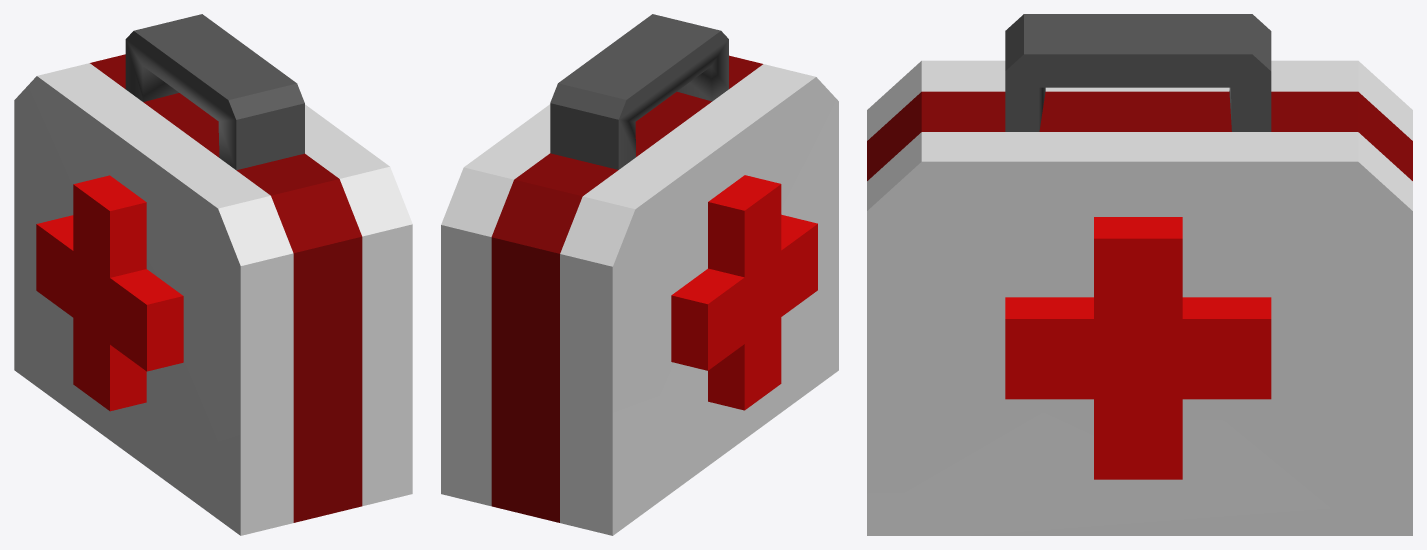
File: medKit.fbx
3 renders of one model, left to right at view 1: azimuth 30°, elevation 25°; view 2: azimuth 150°, elevation 25°; view 3: azimuth 270°, elevation 25°, orthographic. The views are drawn at different scales.
Visible parts, largest first — view 1: pCube3; view 2: pCube3; view 3: pCube3.
Boxes of the visible parts, x1=… form: pCube3: x1=14, y1=14, x2=412, y2=535; pCube3: x1=441, y1=14, x2=838, y2=535; pCube3: x1=867, y1=14, x2=1412, y2=535.
Bounding box in the file's own units: 3.84 × 5.62 × 6.15.
